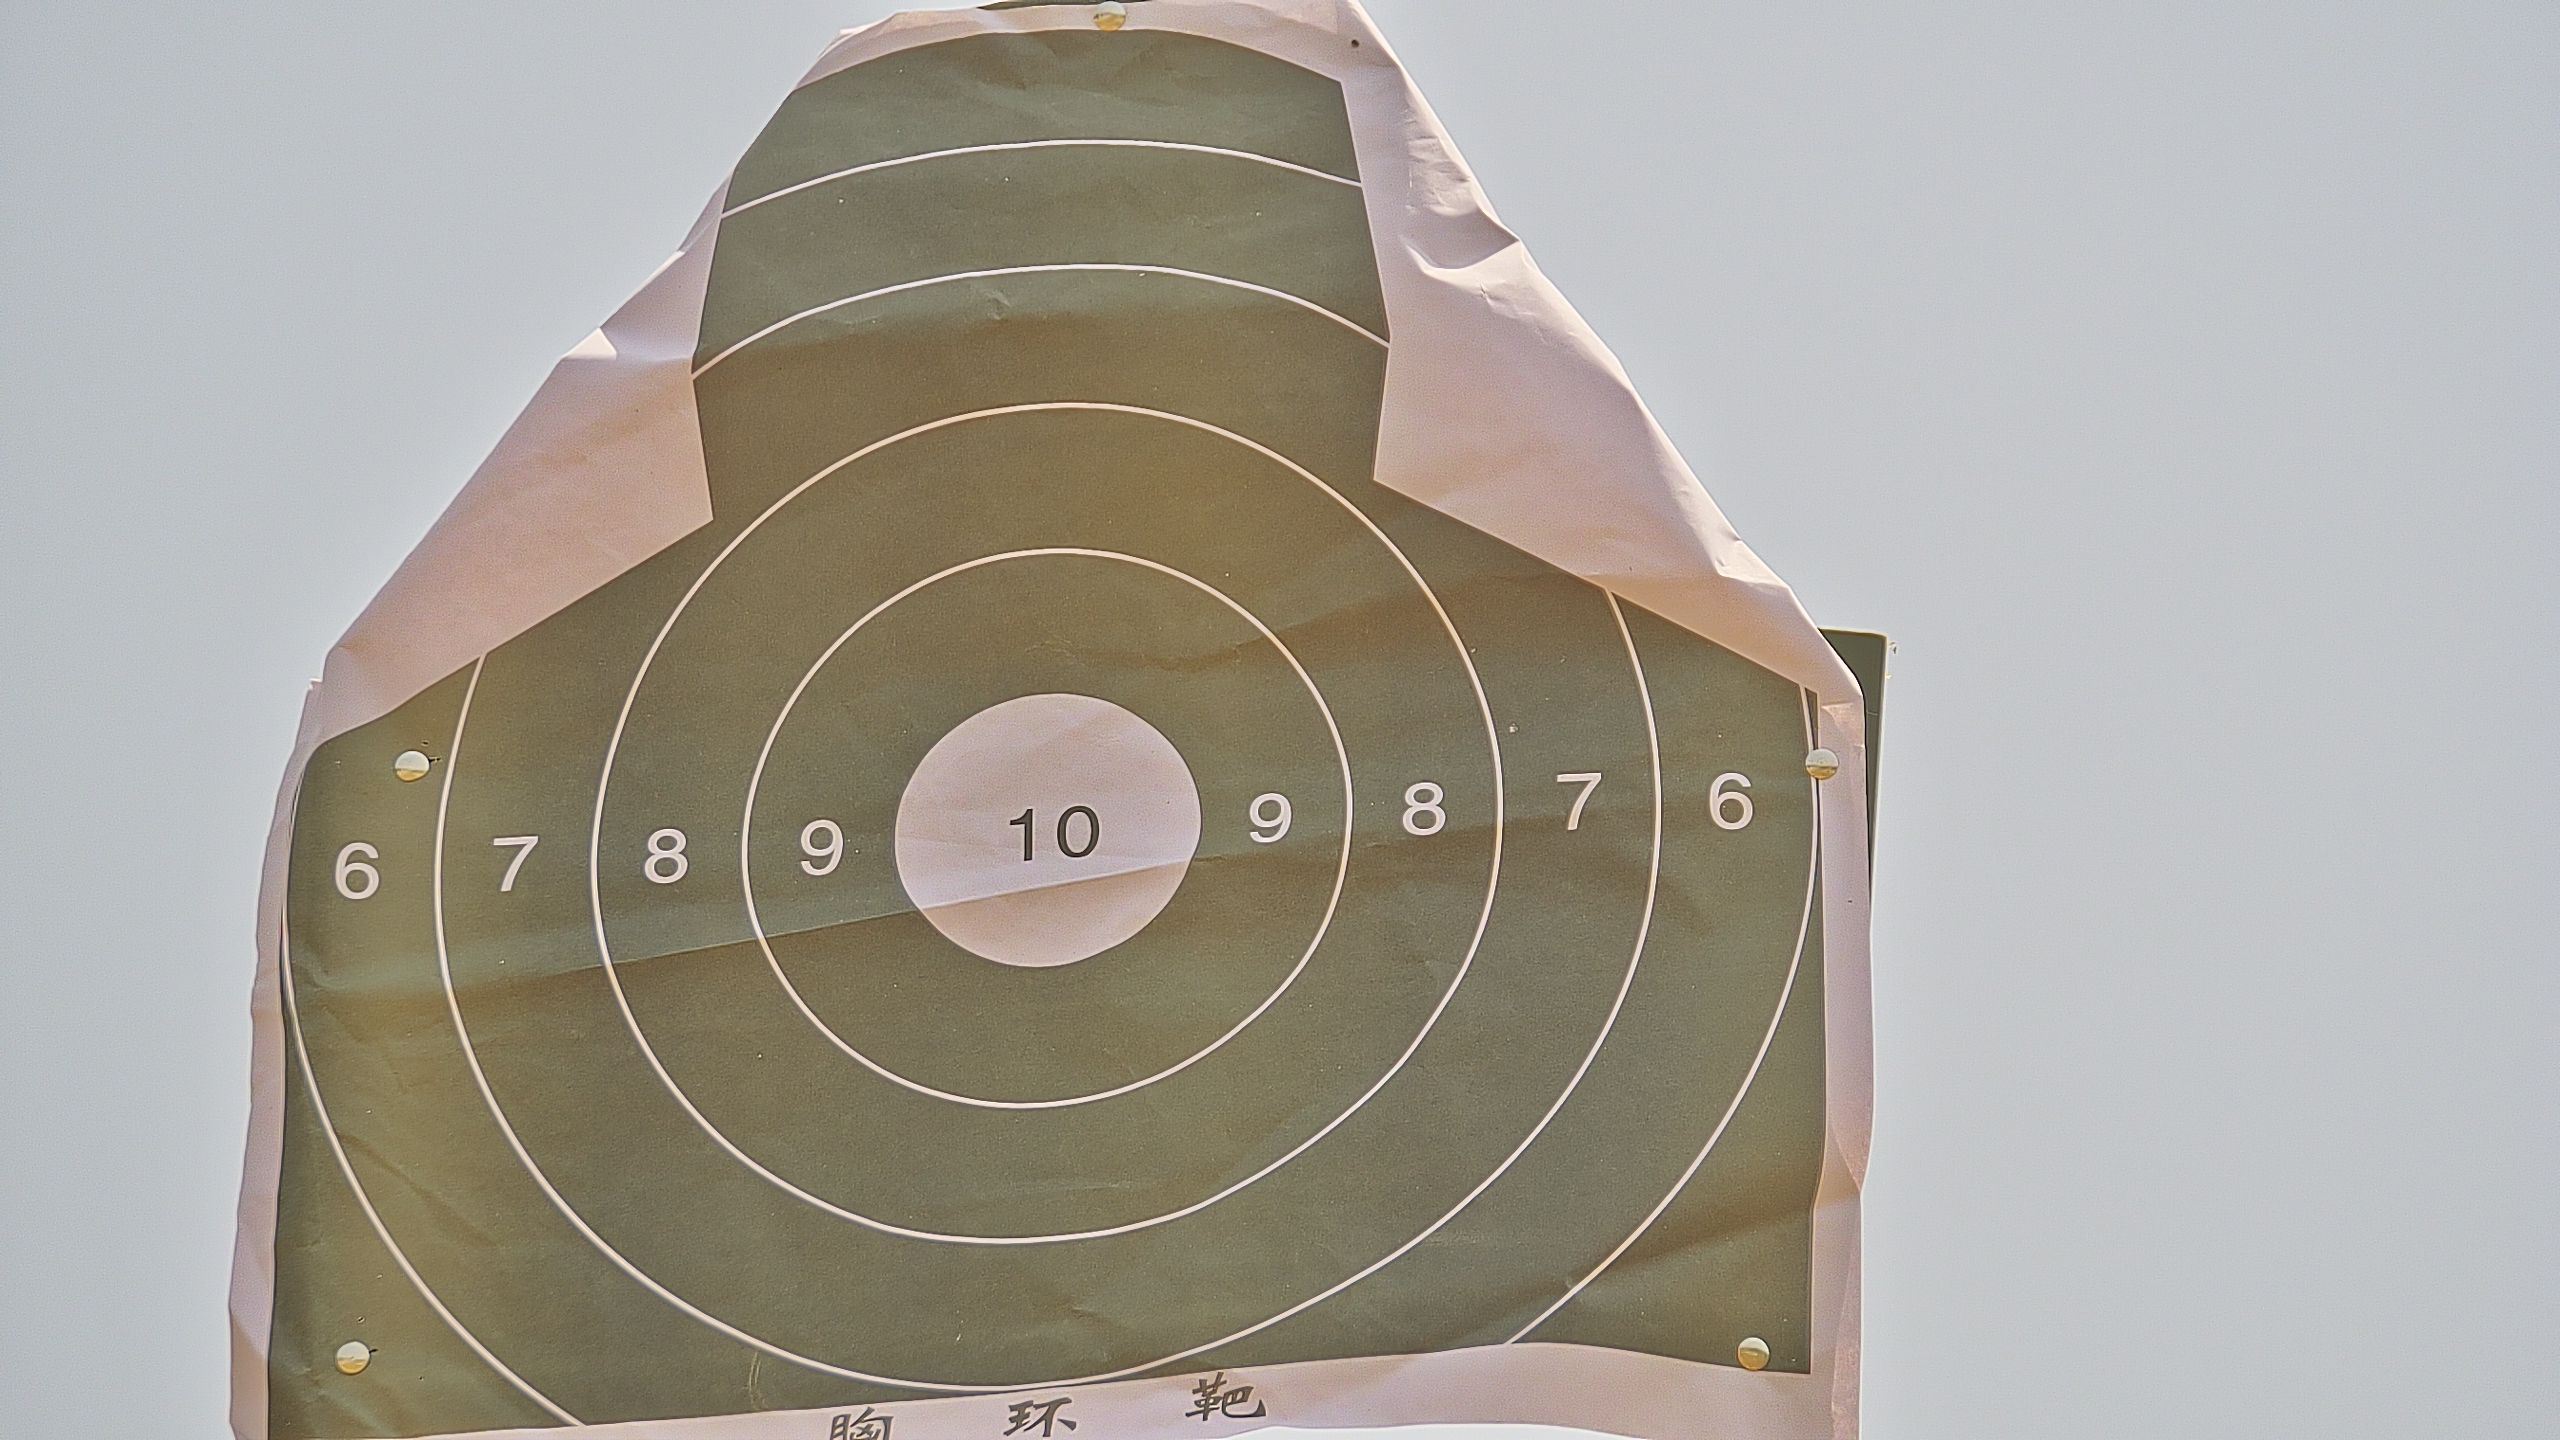target: (278, 33, 1820, 1440)
ten: (893, 693, 1204, 971)
